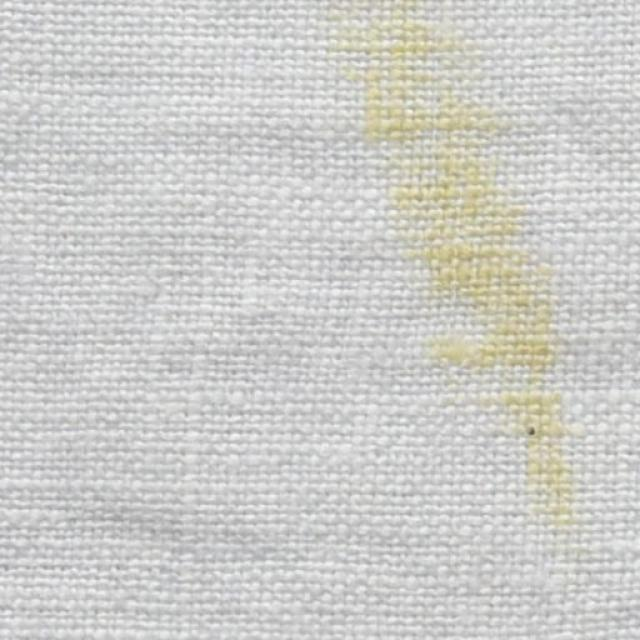Stain: (294, 0, 591, 539)
